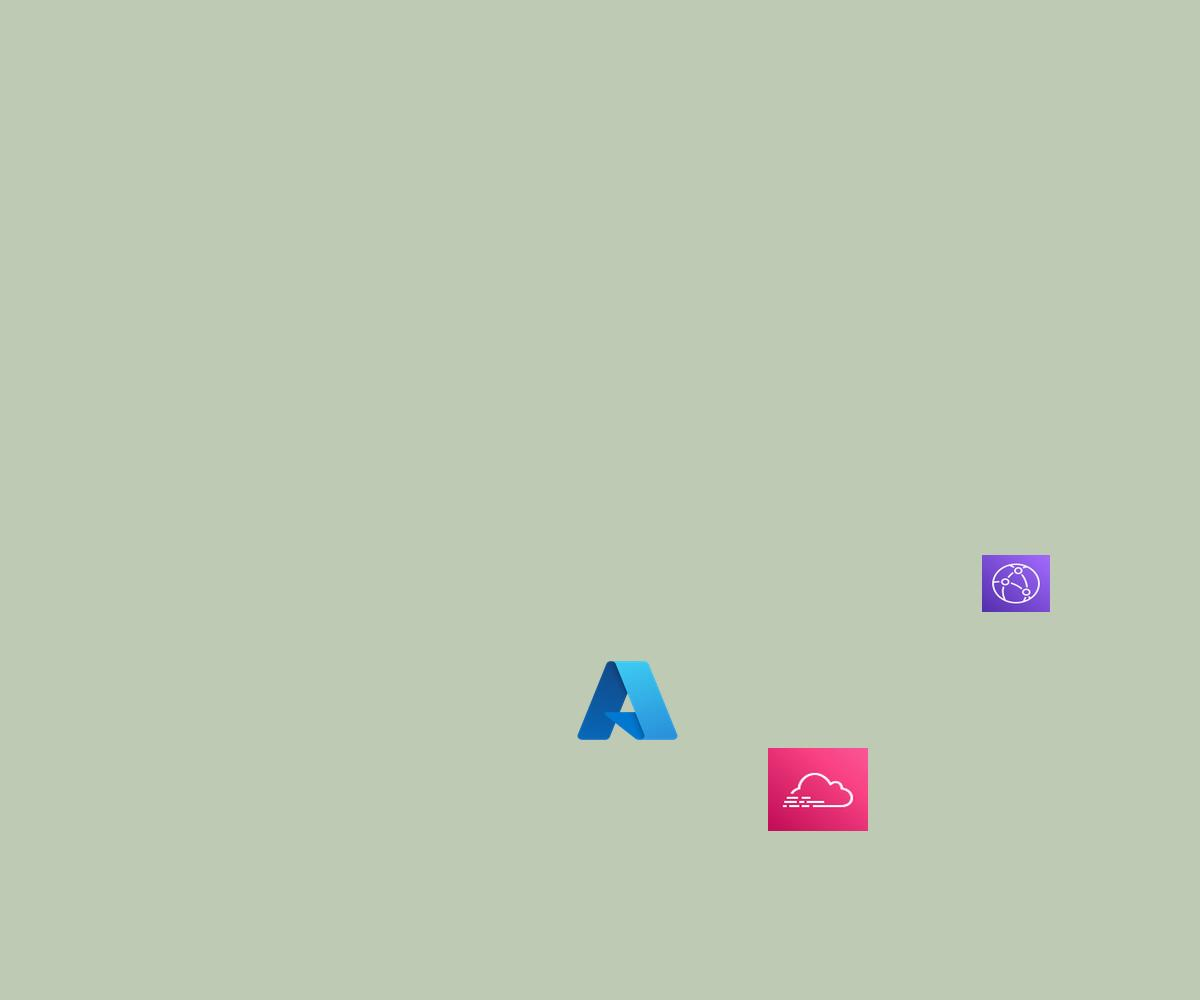AWS-CloudFront: (982, 555, 1050, 612)
AWS-CloudTrail: (768, 748, 868, 831)
Azure_services: (573, 655, 682, 746)
